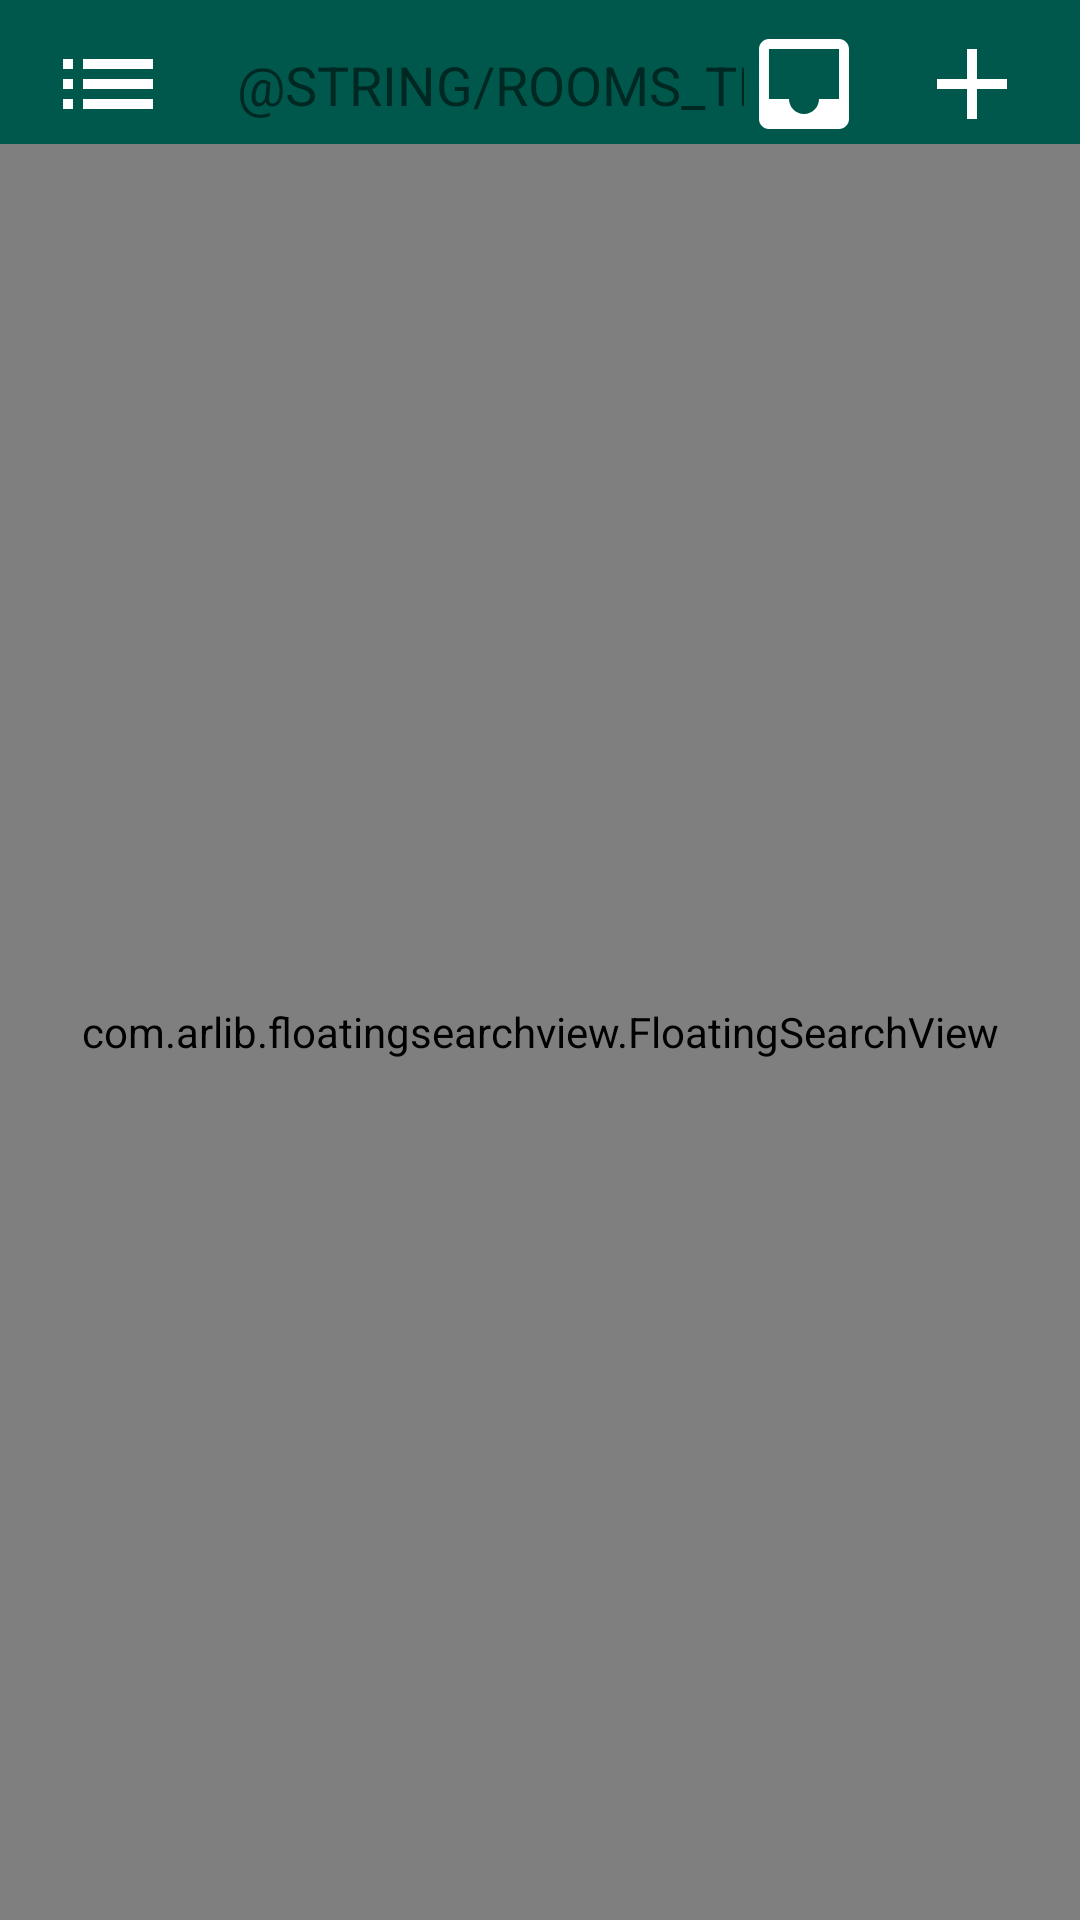

Icon bounding boxes for this 1080 x 1920 phone screenshot, format (left=x1, top=y1, right=x2, bottom=y2):
add: (left=937, top=49, right=1007, bottom=119)
inbox: (left=759, top=39, right=849, bottom=129)
list: (left=63, top=59, right=153, bottom=109)
